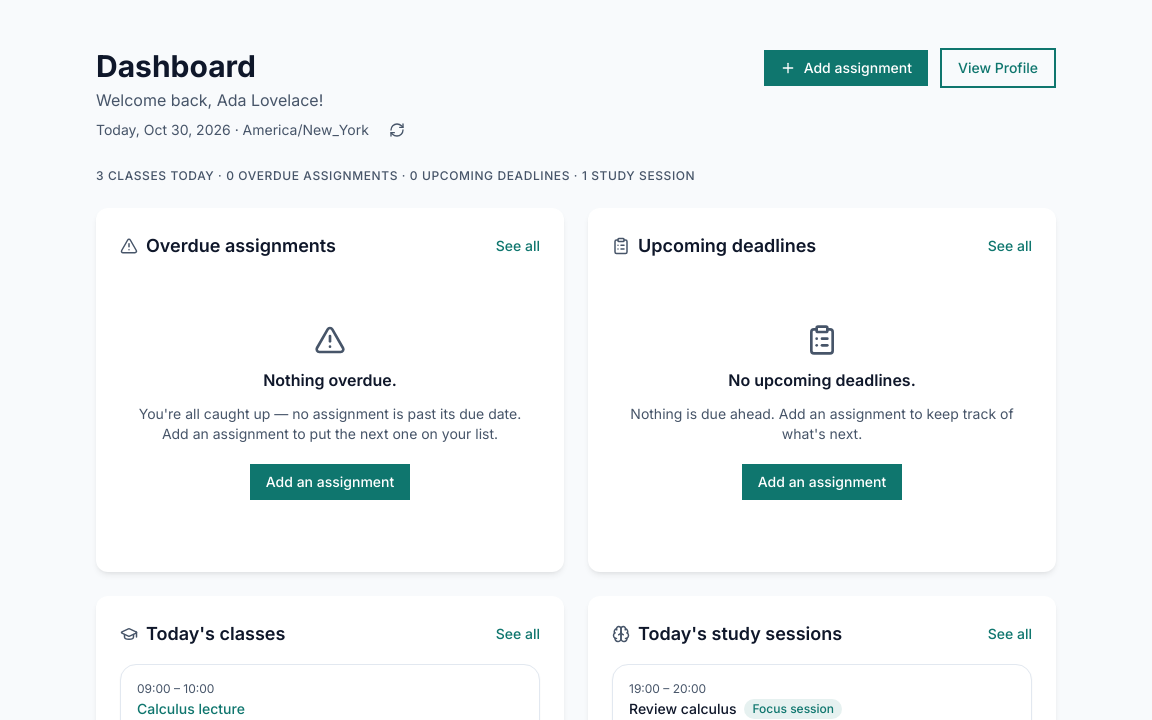
Test: DashboardPage (EP05C) › moves focus to the add control after a create and announces it in the single live region
Expected: the heading "Nothing overdue." is shown, 263,368 -> 397,392
Click the button "Add assignment".
click(846, 68)  # box 764,50 -> 928,86
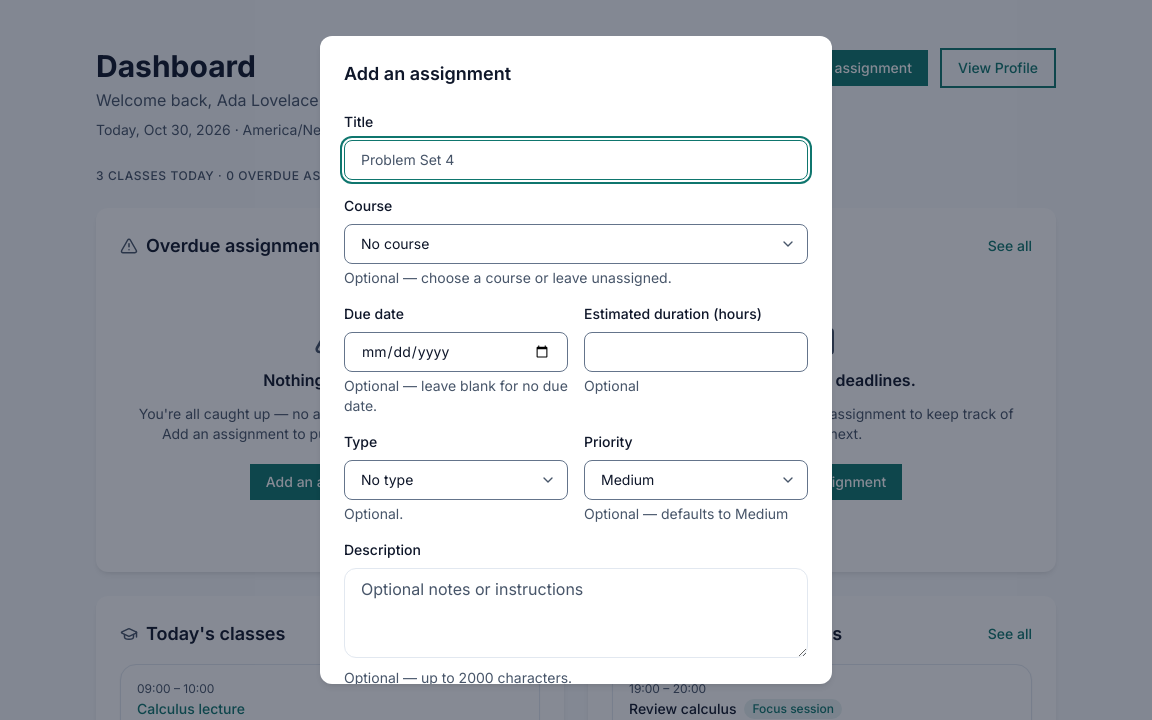
Type "Focus check" into the field labelled "Title".
click(576, 160); type("Focus check")  # box 344,140 -> 808,180
(page scrolled)
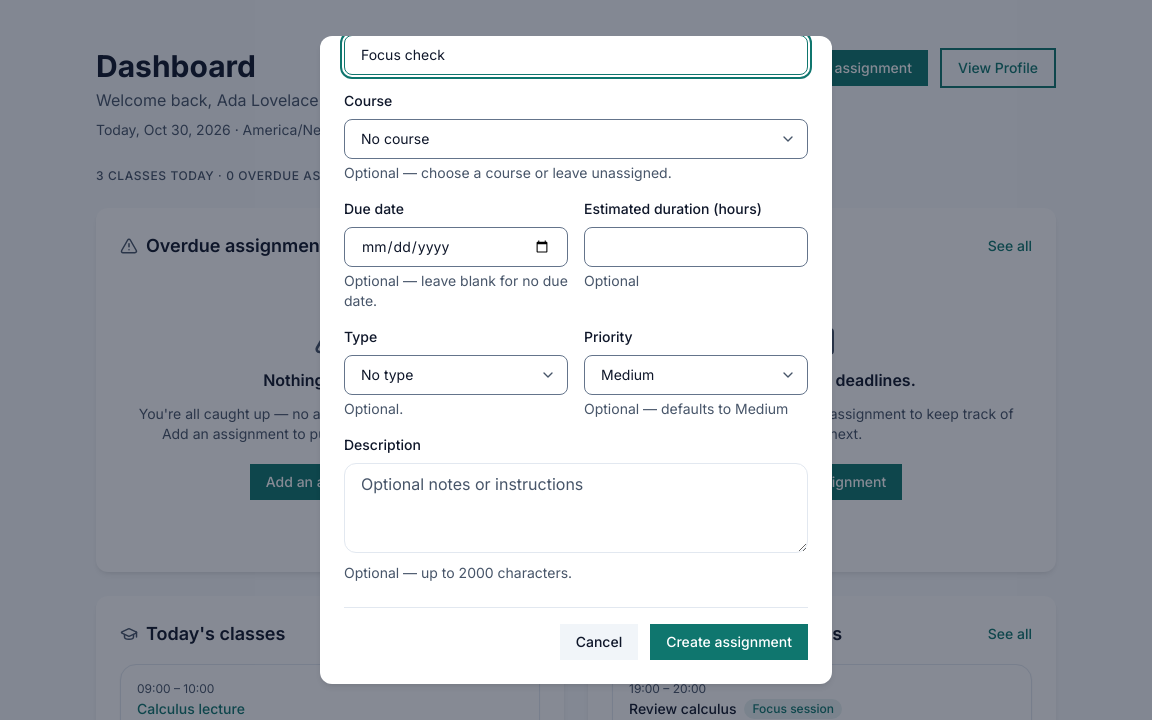
Click the button "Create assignment".
click(729, 642)  # box 650,624 -> 808,660
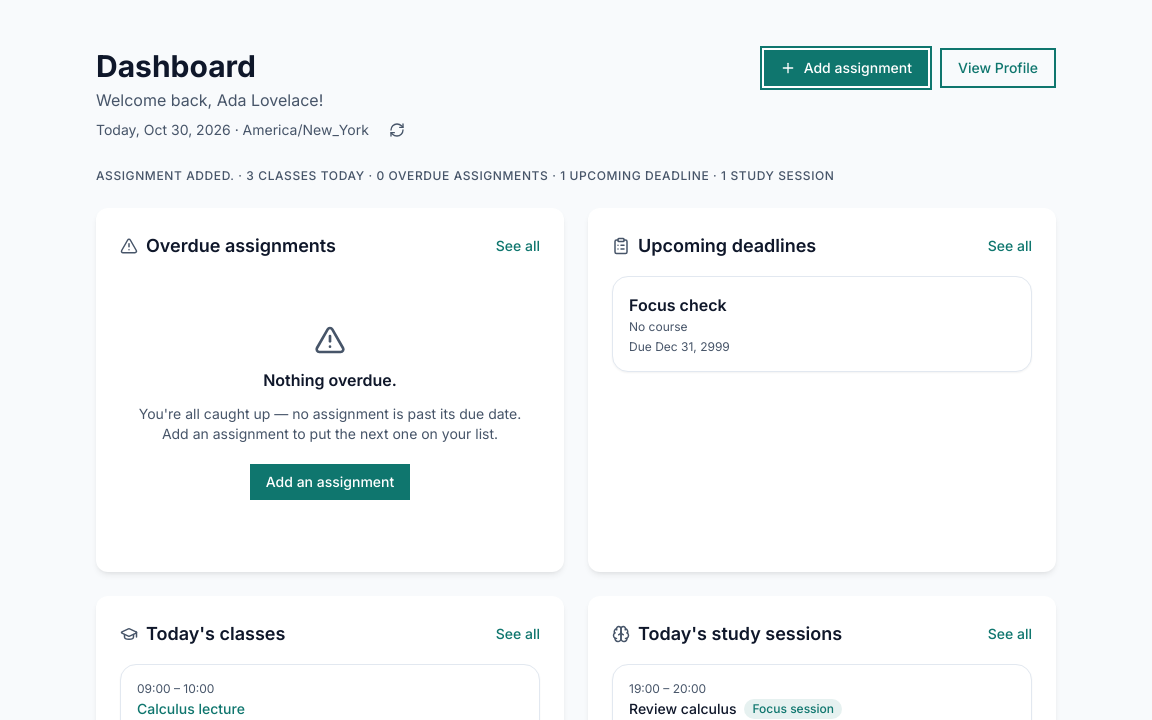
Expected: the number of messages is 1, 96,168 -> 834,183
Expected: the dialog is gone
Expected: the message shows "Assignment added.", 96,168 -> 834,183
